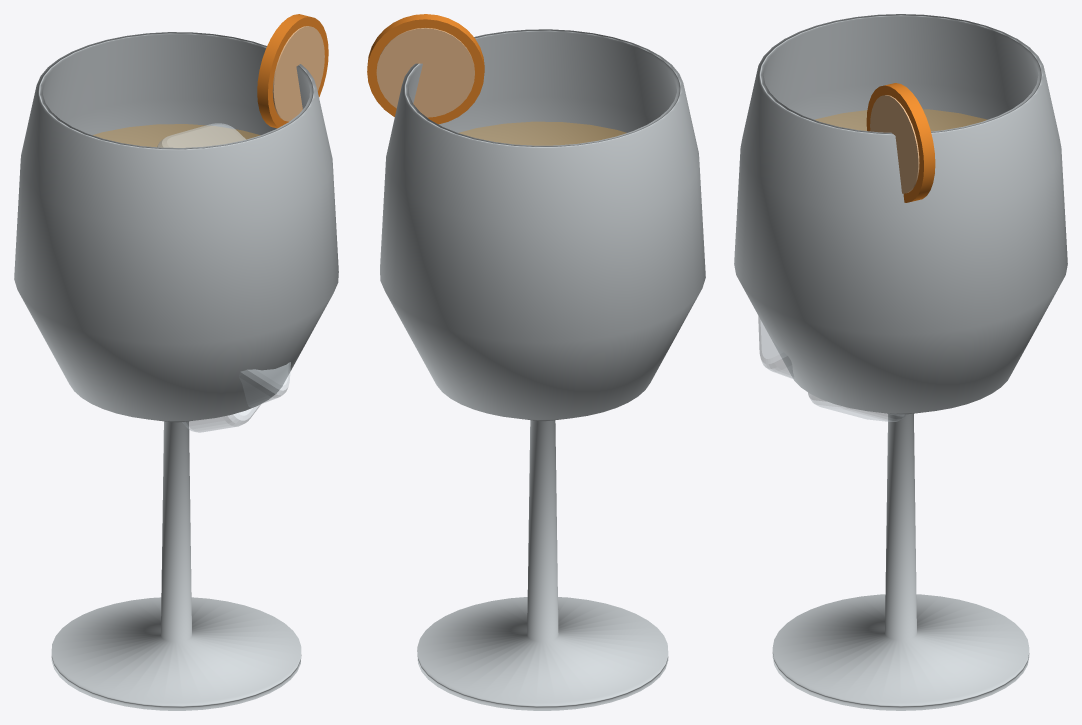
The model's file is cocktail-queen-g.glb.
3 renders of one model, left to right at view 1: azimuth 30°, elevation 25°; view 2: azimuth 150°, elevation 25°; view 3: azimuth 270°, elevation 25°, orthographic. The views are drawn at different scales.
Bounding box in the file's own units: 0.1124 × 0.2154 × 0.104.
